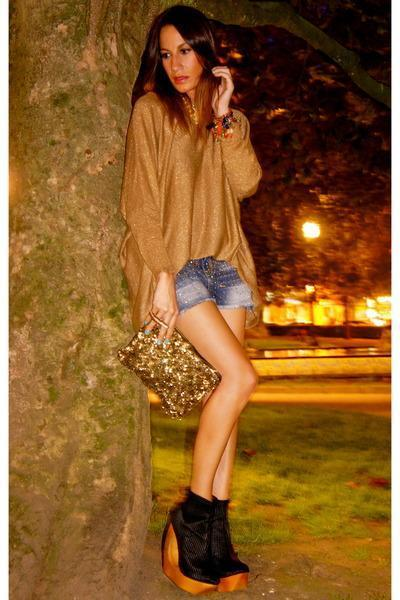bag: (188, 336, 217, 367)
jacket: (110, 92, 261, 299)
shoe: (156, 492, 248, 579)
shorts: (174, 254, 254, 313)
